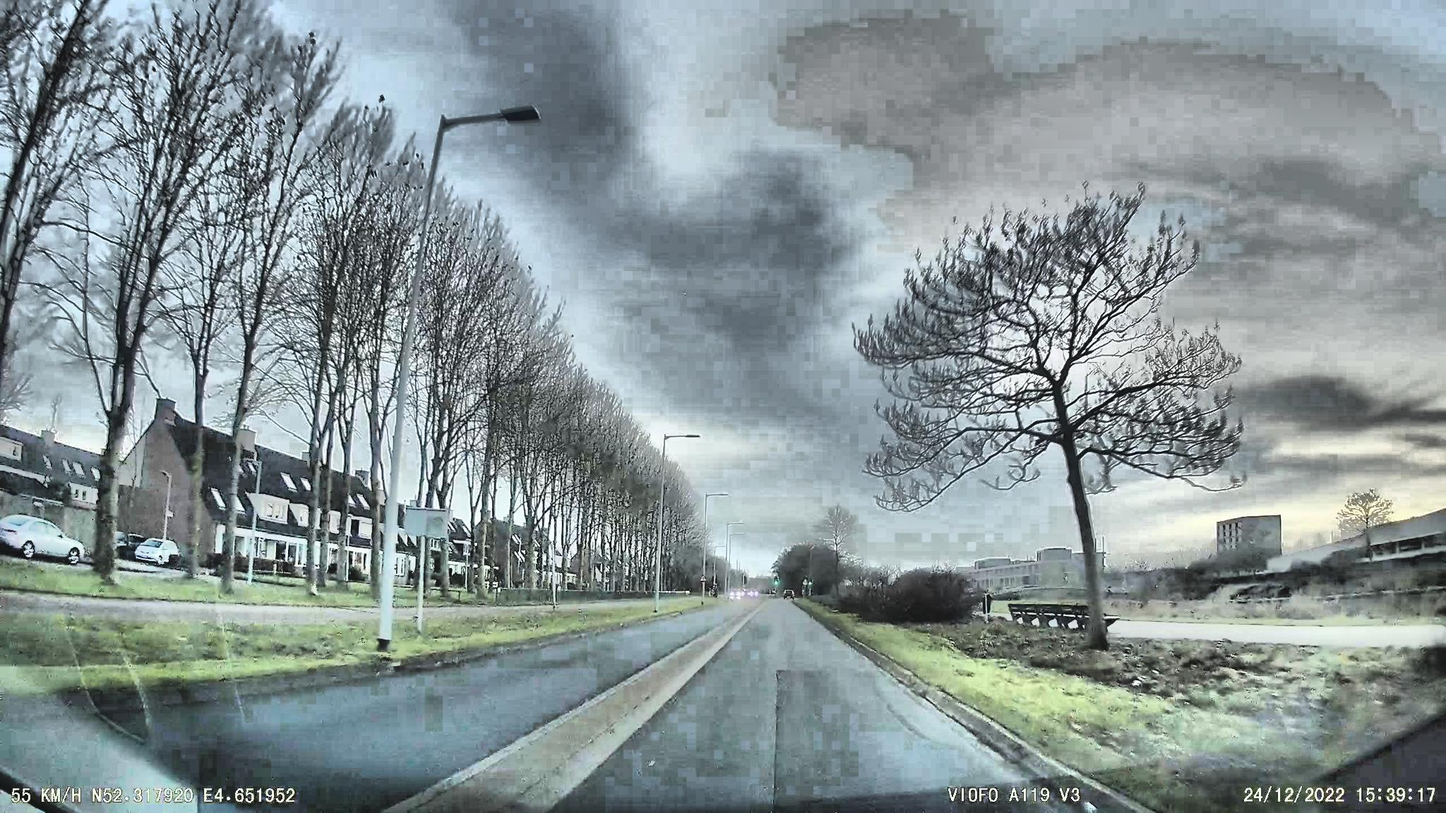Roads: (152, 598, 1151, 813)
